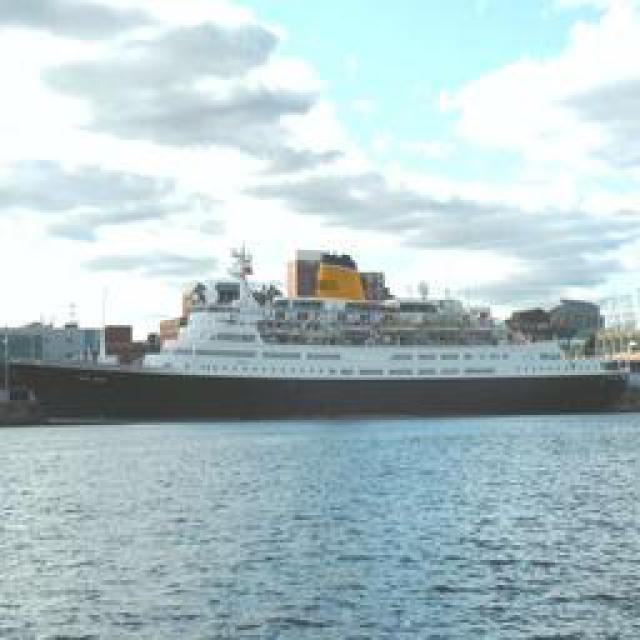Ship: (22, 252, 630, 420)
